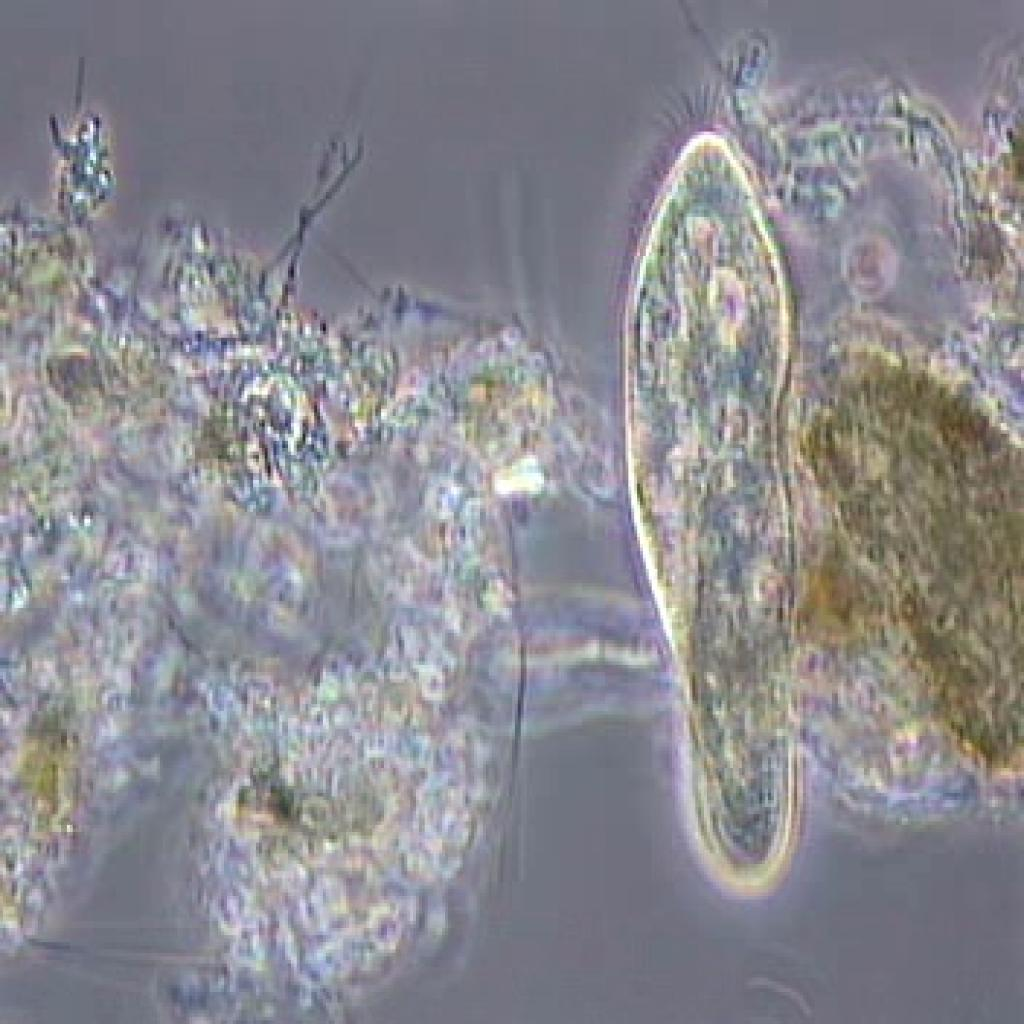Paramecium: (604, 107, 834, 896)
